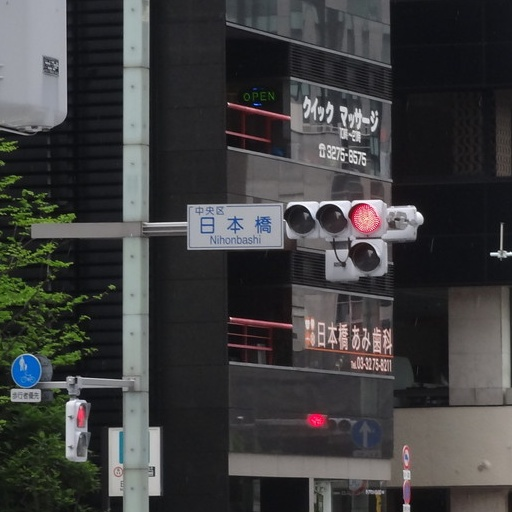Traffic_Signal_Red: (281, 191, 385, 240)
